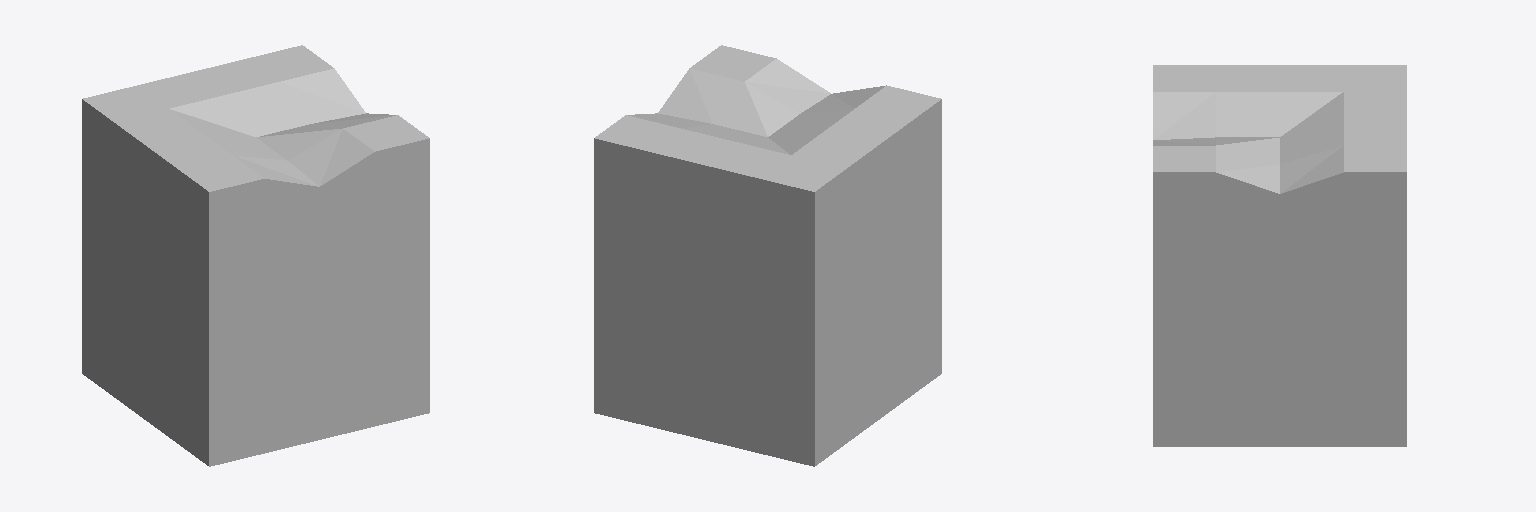
The model's file is TD_Waterwalkway_Corner.obj.
The picture shows the model from 3 angles: view 1: azimuth 30°, elevation 25°; view 2: azimuth 150°, elevation 25°; view 3: azimuth 270°, elevation 25°; orthographic projection.
Parts seen in each view (by area): view 1: pCube15; view 2: pCube15; view 3: pCube15.
Boxes of the visible parts, x1,y1,x2,y2 form: pCube15: [82, 45, 429, 466]; pCube15: [594, 45, 941, 466]; pCube15: [1153, 65, 1406, 446].
Size of the model in its own units: 2 by 2.38 by 2.